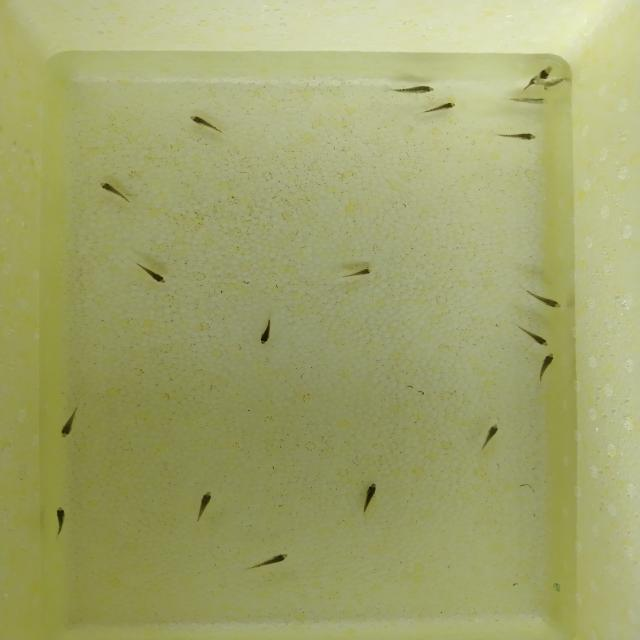fingerling: (185, 485, 220, 522), (95, 178, 137, 202), (140, 262, 178, 288), (244, 552, 296, 571), (184, 112, 223, 136), (516, 289, 567, 307), (60, 402, 79, 449), (51, 502, 72, 544), (516, 328, 552, 349), (536, 350, 560, 379), (479, 420, 502, 449), (489, 131, 536, 144), (364, 480, 379, 518), (398, 81, 441, 94), (334, 268, 380, 280), (257, 320, 276, 349), (427, 100, 460, 113)
